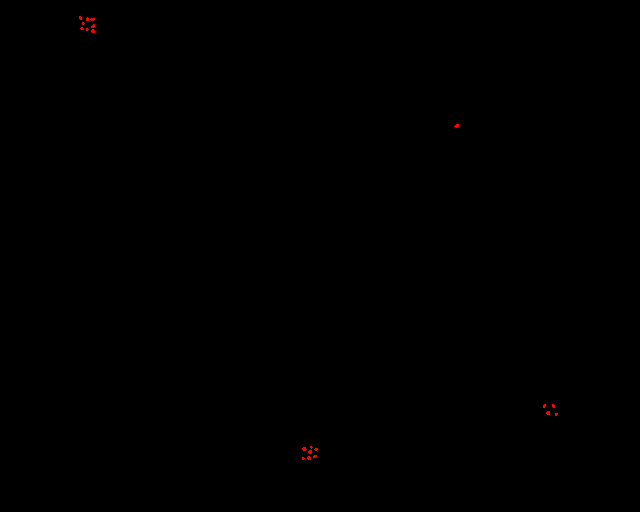Target: (454, 124, 459, 128), (302, 447, 307, 451), (91, 24, 95, 28), (91, 29, 95, 33), (546, 411, 550, 415), (308, 450, 312, 454), (307, 456, 311, 460), (90, 18, 95, 21), (79, 16, 82, 20), (86, 17, 89, 21), (80, 27, 84, 30), (543, 404, 546, 408), (552, 404, 555, 408), (314, 448, 318, 451), (313, 455, 317, 458), (82, 22, 85, 25), (86, 28, 89, 31), (555, 413, 558, 416), (310, 446, 313, 449), (302, 457, 305, 460)
